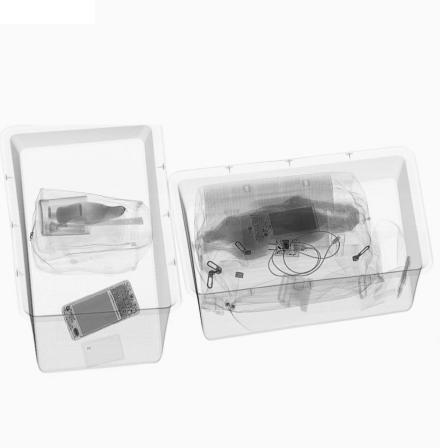Powerbank: (250, 202, 321, 243)
